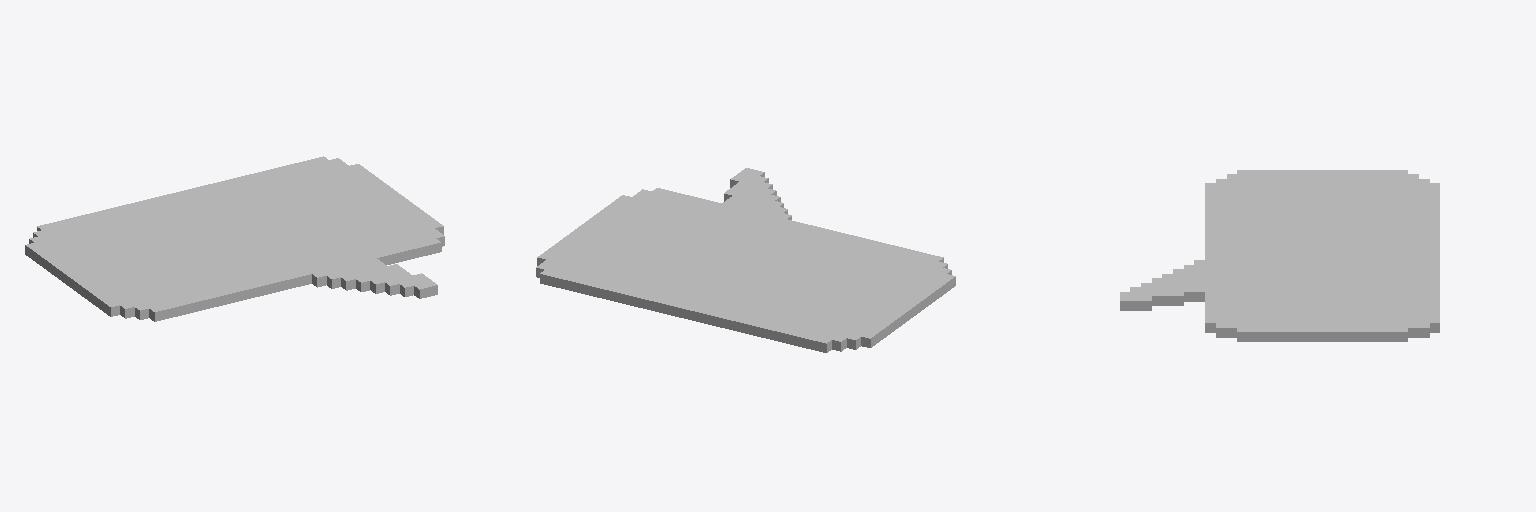
The model's file is Cloud.obj.
3 renders of one model, left to right at view 1: azimuth 30°, elevation 25°; view 2: azimuth 150°, elevation 25°; view 3: azimuth 270°, elevation 25°, orthographic.
Parts seen in each view (by area): view 1: object 1; view 2: object 1; view 3: object 1.
Part boxes in pixels (bbox=[...]): object 1: bbox=[25, 156, 444, 321]; object 1: bbox=[536, 168, 955, 352]; object 1: bbox=[1120, 170, 1439, 341].
Size of the model in its own units: 3.6 by 0.1 by 3.